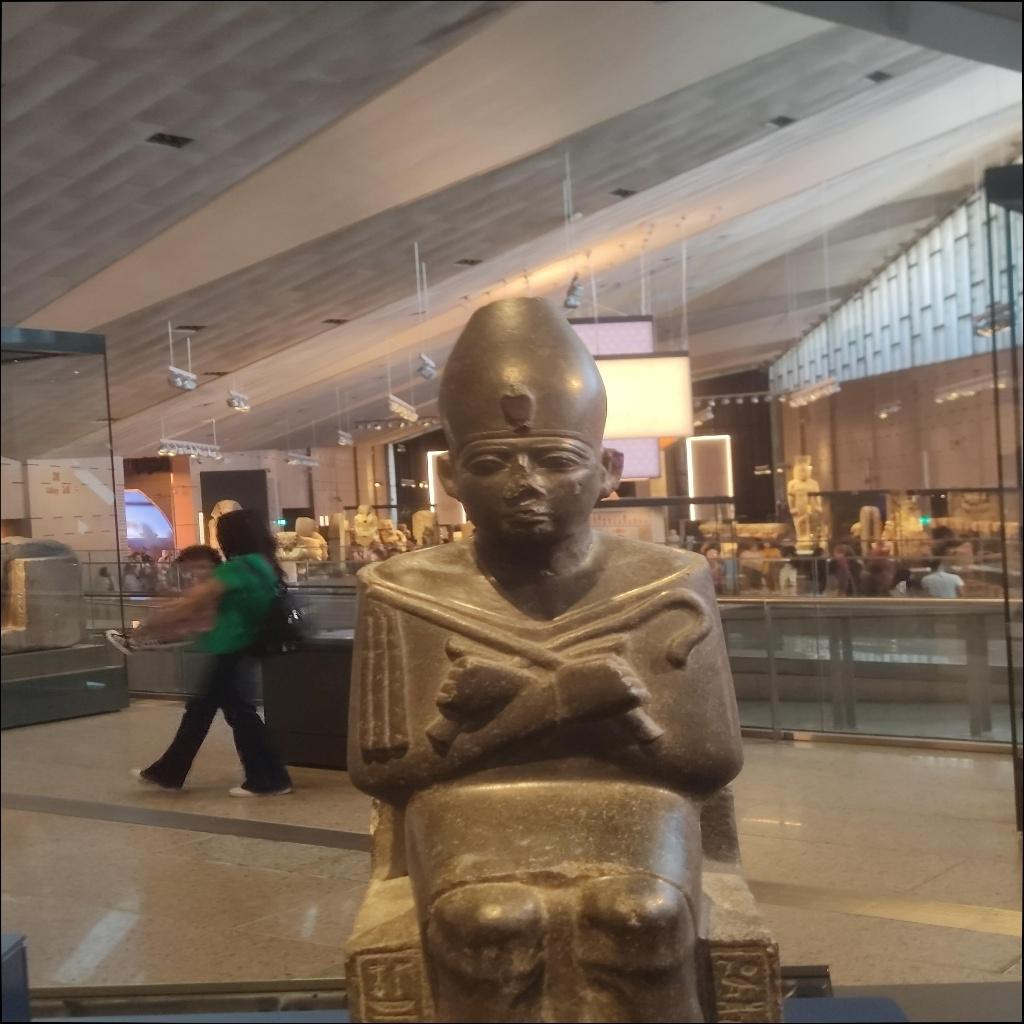Statue of Sobekhotep V: (338, 294, 780, 1020)
